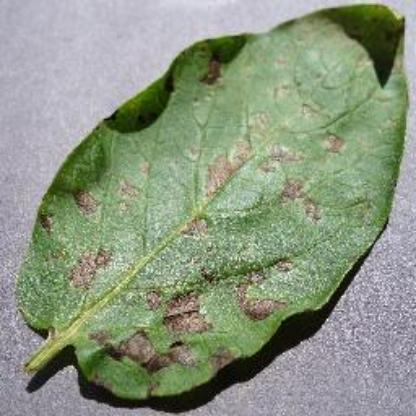Early-Blight: (26, 2, 413, 404)
